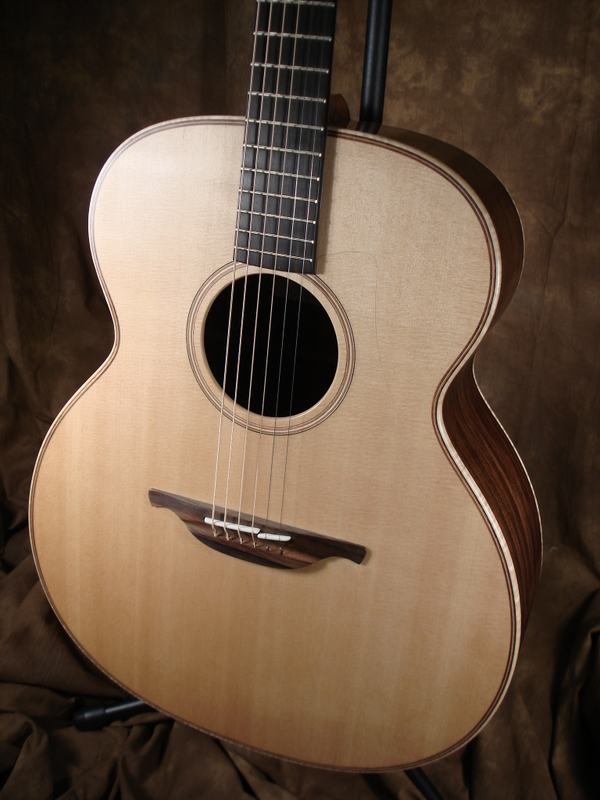guitar: (27, 1, 546, 771)
